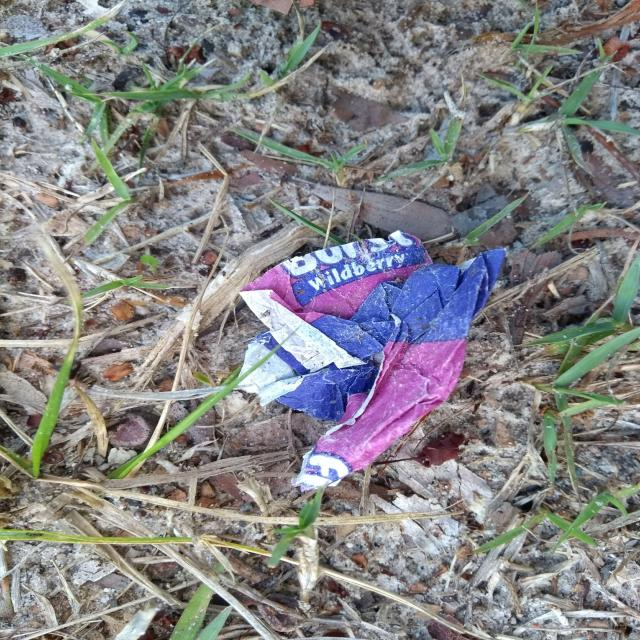Other carton: (238, 231, 507, 492)
